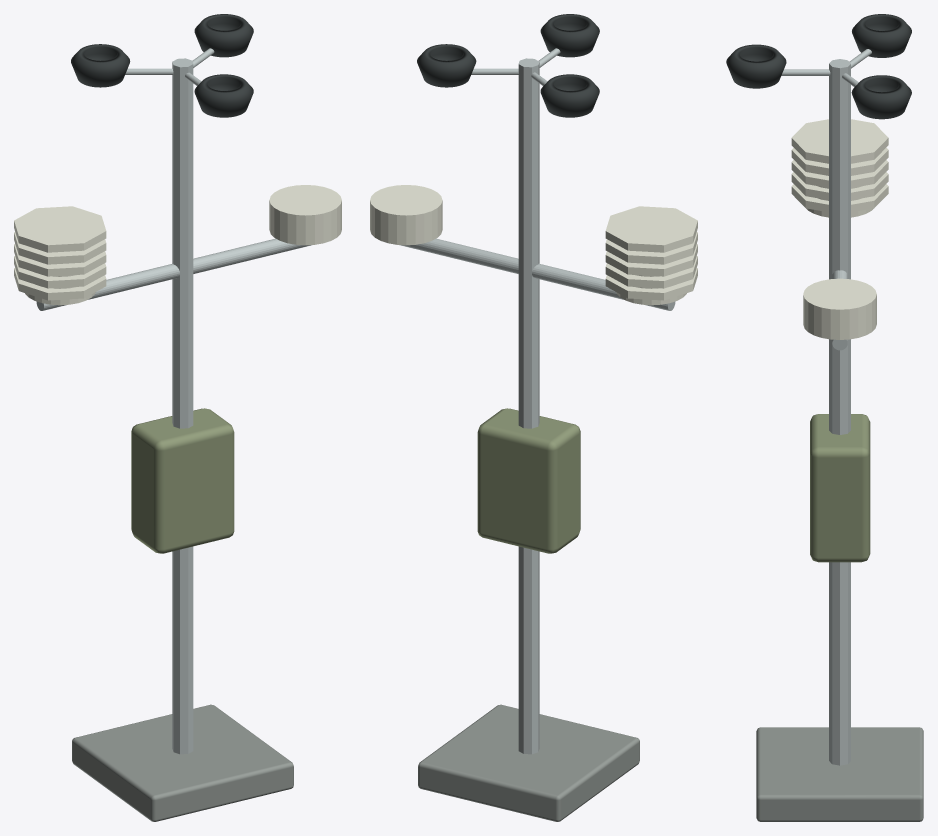
File: mountain-border-checkpoint-mountain-border-checkpoint--677925a6__30323.glb
3 renders of one model, left to right at view 1: azimuth 30°, elevation 25°; view 2: azimuth 150°, elevation 25°; view 3: azimuth 270°, elevation 25°, orthographic.
Parts seen in each view (by area): view 1: mountain-border-checkpoint-mountain-weather-station; view 2: mountain-border-checkpoint-mountain-weather-station; view 3: mountain-border-checkpoint-mountain-weather-station.
Part boxes in pixels (x1,y1,x2,y2): mountain-border-checkpoint-mountain-weather-station: (14,14,341,821); mountain-border-checkpoint-mountain-weather-station: (370,14,697,821); mountain-border-checkpoint-mountain-weather-station: (726,14,923,821).
Size of the model in its own units: 1.12 by 2.42 by 0.59.
